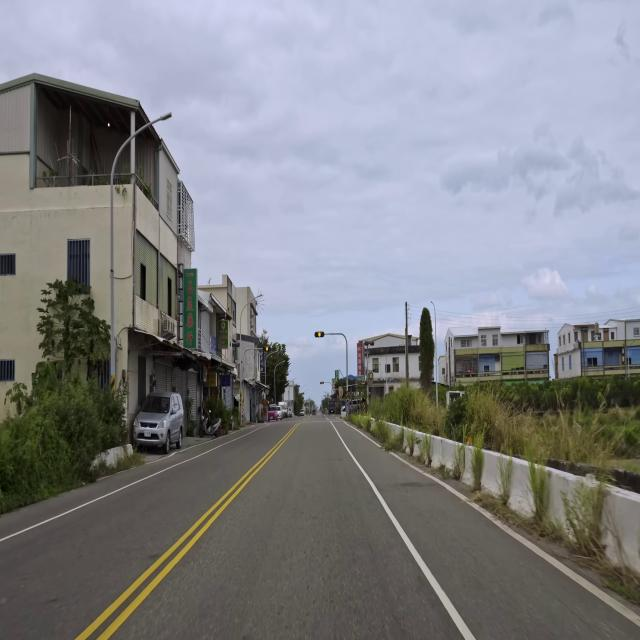yellow light: (315, 332, 324, 338), (263, 346, 272, 352)
